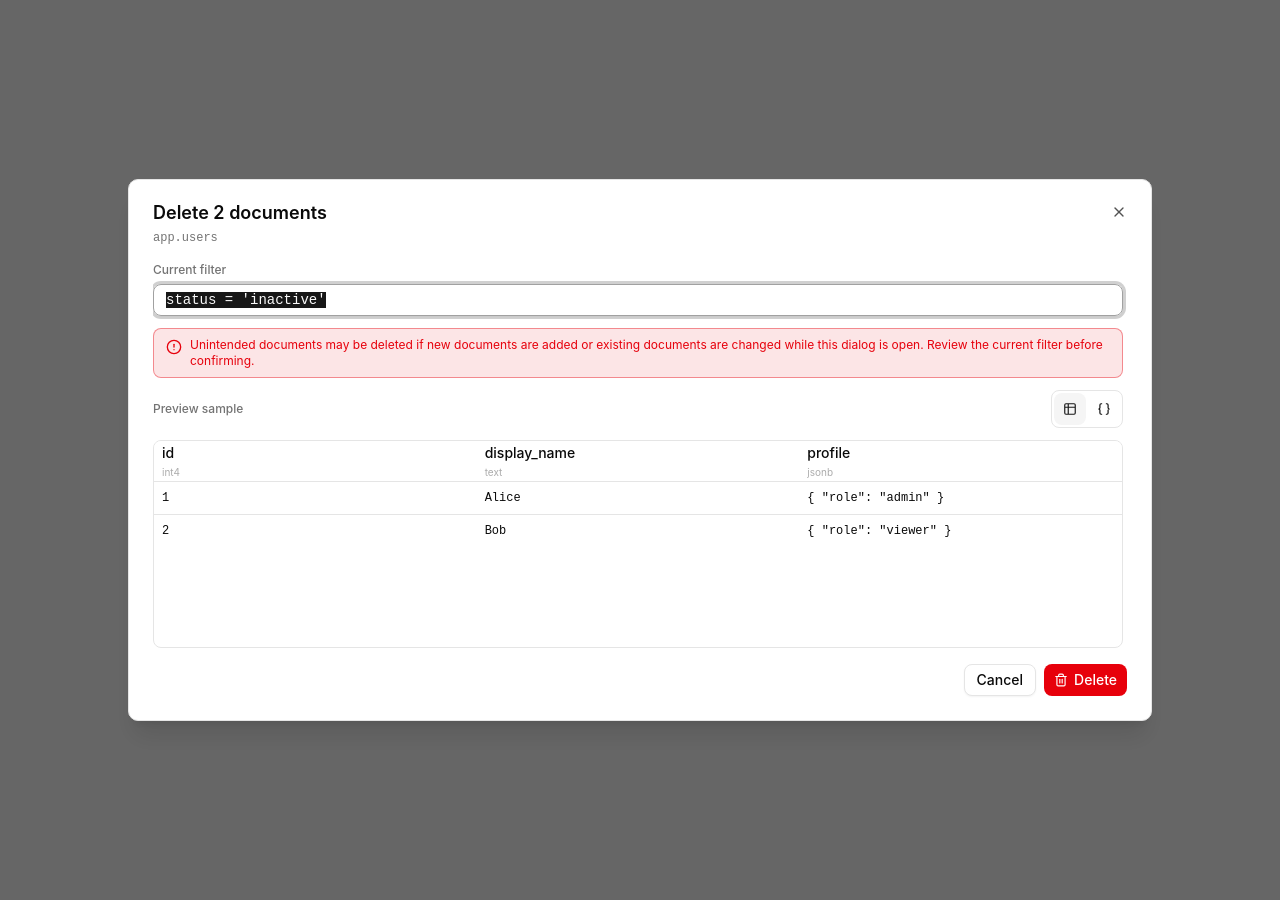
Test: DeleteDataDialog › can switch the preview from table to JSON
Expected: the text "Alice" is shown, [477,481,799,514]
Click the button named "JSON preview".
click(1104, 409)  # box [1088,393,1120,425]
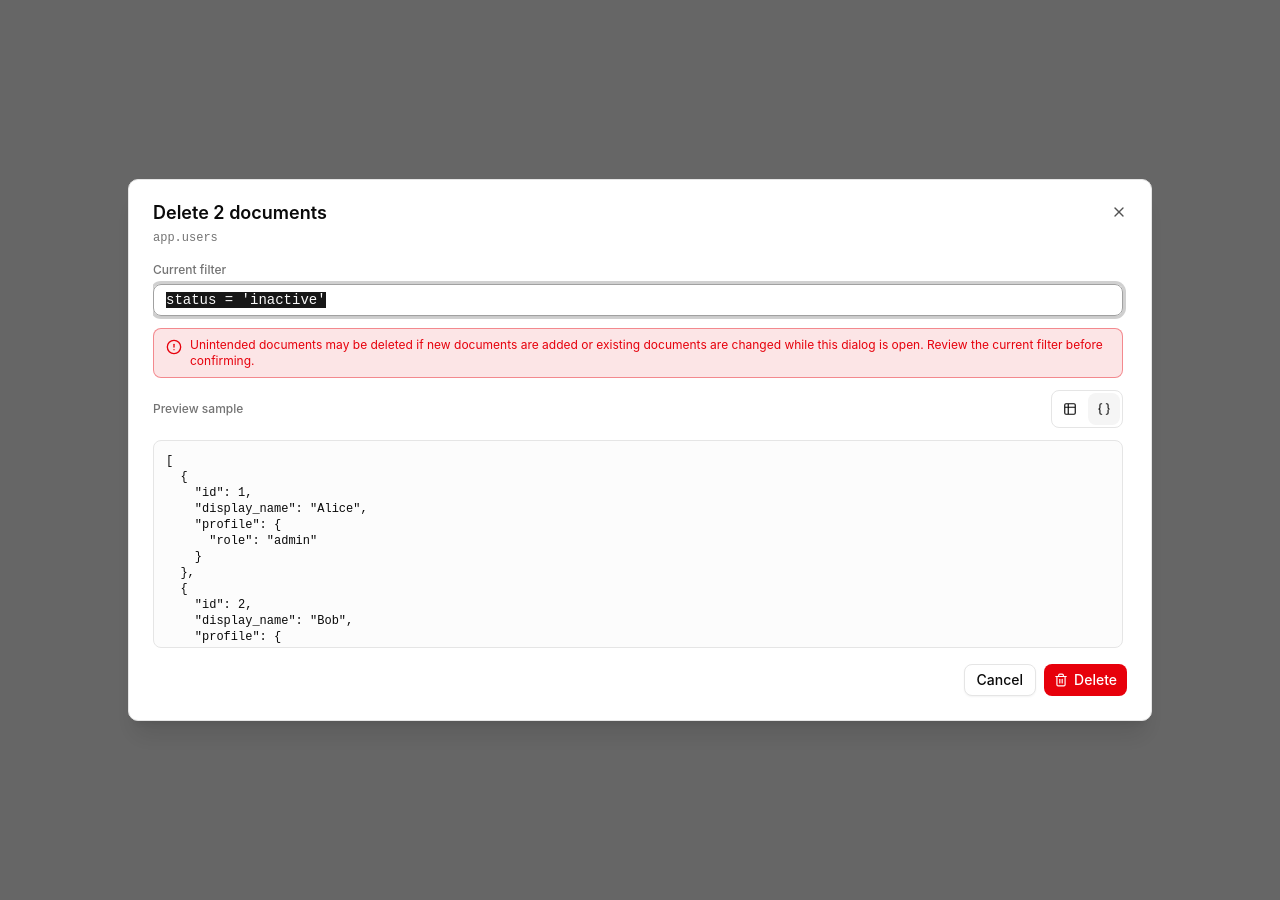
Expected: the text "\"role\": \"admin\"" is shown, [166,454,368,647]
